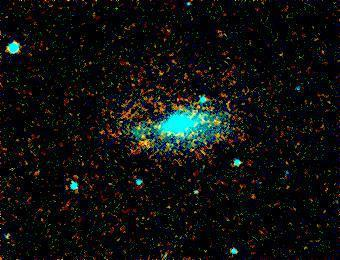star: (123, 127, 153, 157)
